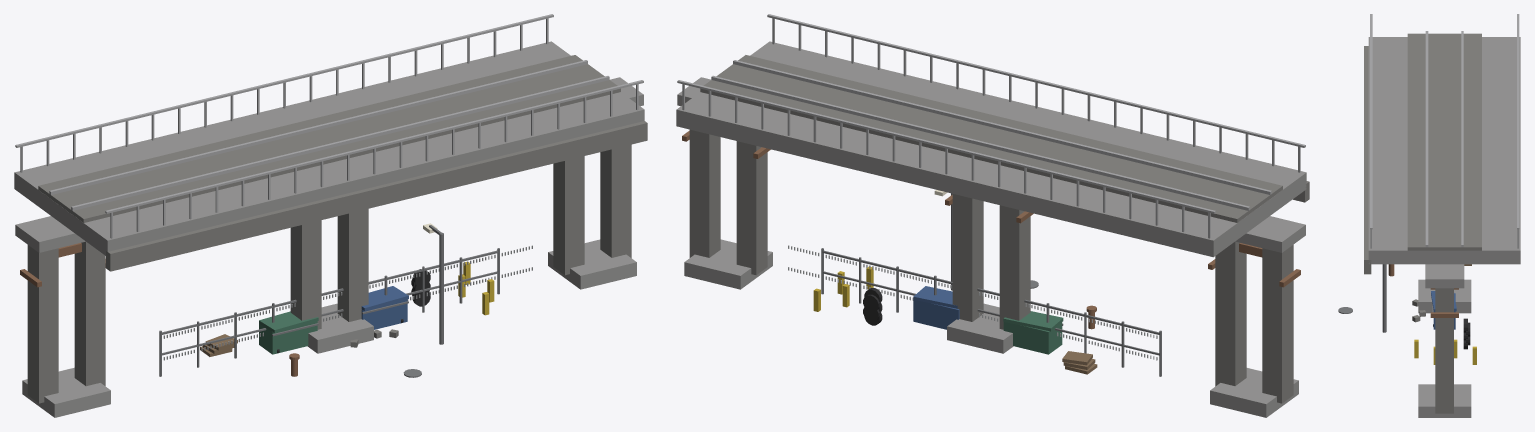
3 views of the same model, side by side, from view 1: azimuth 30°, elevation 25°; view 2: azimuth 150°, elevation 25°; view 3: azimuth 270°, elevation 25° (orthographic). The views are drawn at different scales.
Visible parts, largest first — view 1: rail_trackbed, deck_spanA, deck_spanB, deck_fasciaB, deck_fasciaA, pier_colL00, pier_colR00, pier_colL02, pier_colR02, pier_colR01, pier_colL01, rail_track00 (+13 smaller); view 2: rail_trackbed, deck_spanA, deck_spanB, pier_colL00, pier_colR00, pier_colR02, pier_colL02, pier_colR01, pier_colL01, rail_track01, rail_track00, rail_walk00 (+11 smaller); view 3: rail_trackbed, deck_spanB, deck_spanA, pier_colR02, pier_base02, pier_cap02, pier_base01, rail_track00, deck_fasciaB, rail_track01, rail_walk00, rail_walk01 (+2 smaller).
Boxes of the visible parts, left/top/right/bottom form: rail_trackbed: left=38, top=55, right=620, bottom=222; deck_spanA: left=14, top=108, right=381, bottom=256; deck_spanB: left=277, top=41, right=644, bottom=184; deck_fasciaB: left=371, top=121, right=647, bottom=207; deck_fasciaA: left=106, top=188, right=384, bottom=271; pier_colL00: left=27, top=245, right=58, bottom=403; pier_colR00: left=74, top=241, right=105, bottom=386; pier_colL02: left=553, top=156, right=584, bottom=275; pier_colR02: left=600, top=144, right=631, bottom=257; pier_colR01: left=337, top=209, right=368, bottom=321; pier_colL01: left=290, top=220, right=321, bottom=329; rail_track00: left=71, top=76, right=609, bottom=210; rail_trackbed: left=700, top=55, right=1282, bottom=222; deck_spanA: left=939, top=105, right=1306, bottom=257; deck_spanB: left=676, top=41, right=1032, bottom=192; pier_colL00: left=1262, top=244, right=1293, bottom=403; pier_colR00: left=1215, top=241, right=1246, bottom=386; pier_colR02: left=689, top=129, right=720, bottom=257; pier_colL02: left=736, top=141, right=767, bottom=275; pier_colR01: left=952, top=194, right=983, bottom=321; pier_colL01: left=999, top=205, right=1030, bottom=329; rail_track01: left=711, top=75, right=1249, bottom=210; rail_track00: left=733, top=60, right=1271, bottom=194; rail_walk00: left=767, top=14, right=1305, bottom=147; rail_trackbed: left=1407, top=33, right=1481, bottom=250; deck_spanB: left=1368, top=141, right=1520, bottom=264; deck_spanA: left=1368, top=37, right=1520, bottom=141; pier_colR02: left=1435, top=288, right=1453, bottom=413; pier_base02: left=1418, top=384, right=1471, bottom=417; pier_cap02: left=1425, top=264, right=1464, bottom=288; pier_base01: left=1418, top=279, right=1471, bottom=313; rail_track00: left=1425, top=31, right=1428, bottom=247; deck_fasciaB: left=1364, top=150, right=1371, bottom=274; rail_track01: left=1461, top=31, right=1463, bottom=247; rail_walk00: left=1370, top=14, right=1372, bottom=229; rail_walk01: left=1517, top=14, right=1519, bottom=229.
Bounding box in the file's own units: 3220 × 1159 × 1032.
